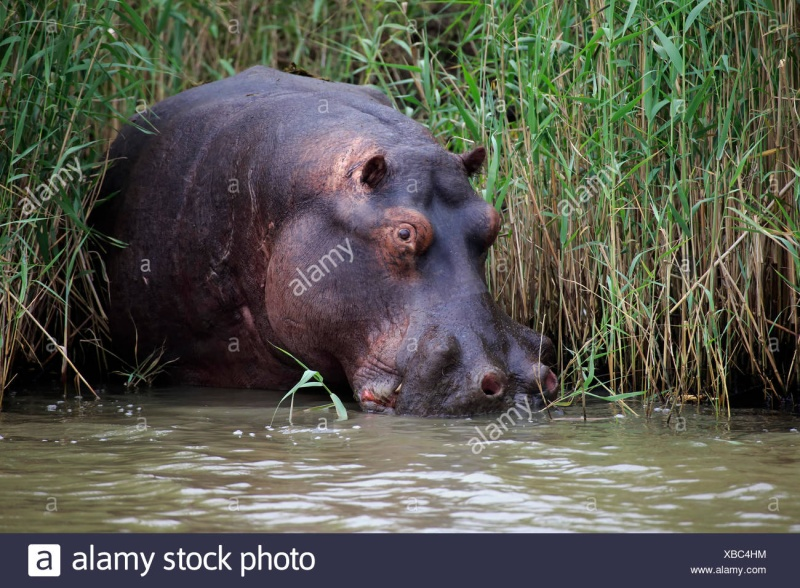hipopotamo: (86, 57, 558, 411)
